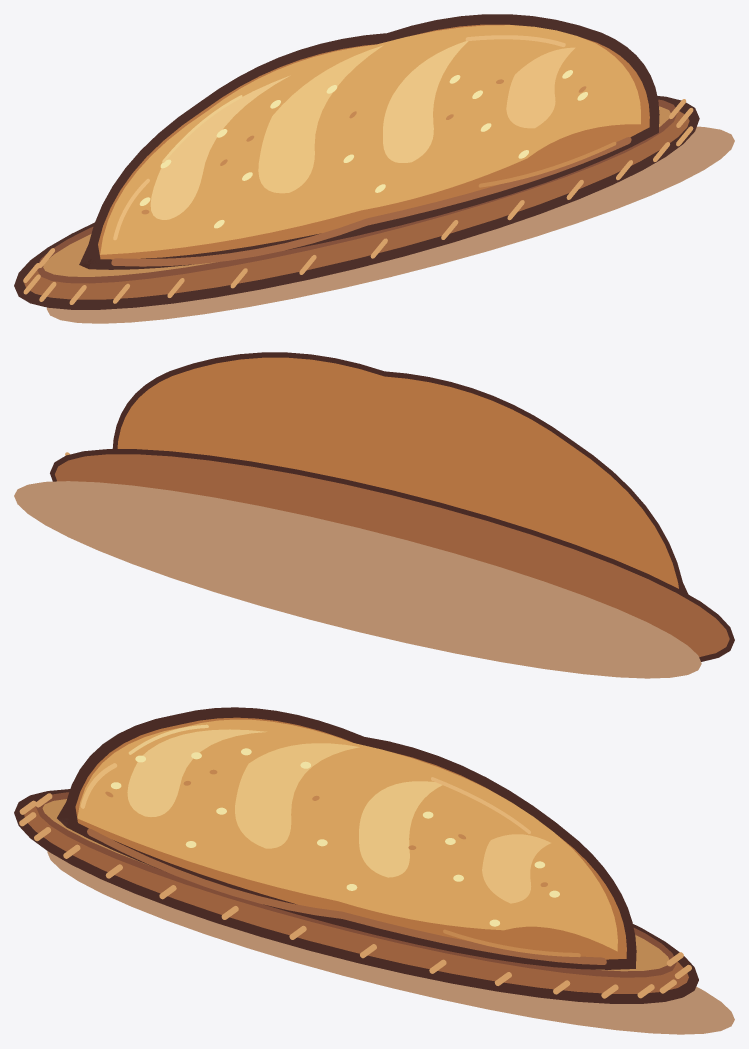
Rendered from paine.glb.
3 renders of one model, top to bottom at view 1: azimuth 30°, elevation 25°; view 2: azimuth 150°, elevation 25°; view 3: azimuth 330°, elevation 25°, orthographic.
Parts seen in each view (by area): view 1: Round scored bread, Woven loaf platter, Pâine · reflexe în coajă; view 2: Woven loaf platter, Round scored bread; view 3: Round scored bread, Woven loaf platter, Pâine · reflexe în coajă.
Part boxes in pixels (x1=…): Round scored bread: x1=79, y1=14, x2=659, y2=269; Woven loaf platter: x1=14, y1=96, x2=734, y2=323; Pâine · reflexe în coajă: x1=113, y1=35, x2=616, y2=240; Woven loaf platter: x1=14, y1=449, x2=734, y2=678; Round scored bread: x1=112, y1=352, x2=688, y2=594; Round scored bread: x1=57, y1=707, x2=636, y2=969; Woven loaf platter: x1=14, y1=789, x2=734, y2=1034; Pâine · reflexe în coajă: x1=80, y1=724, x2=580, y2=957.
Bounding box in the file's own units: 2.56 × 0.889 × 0.1182.
